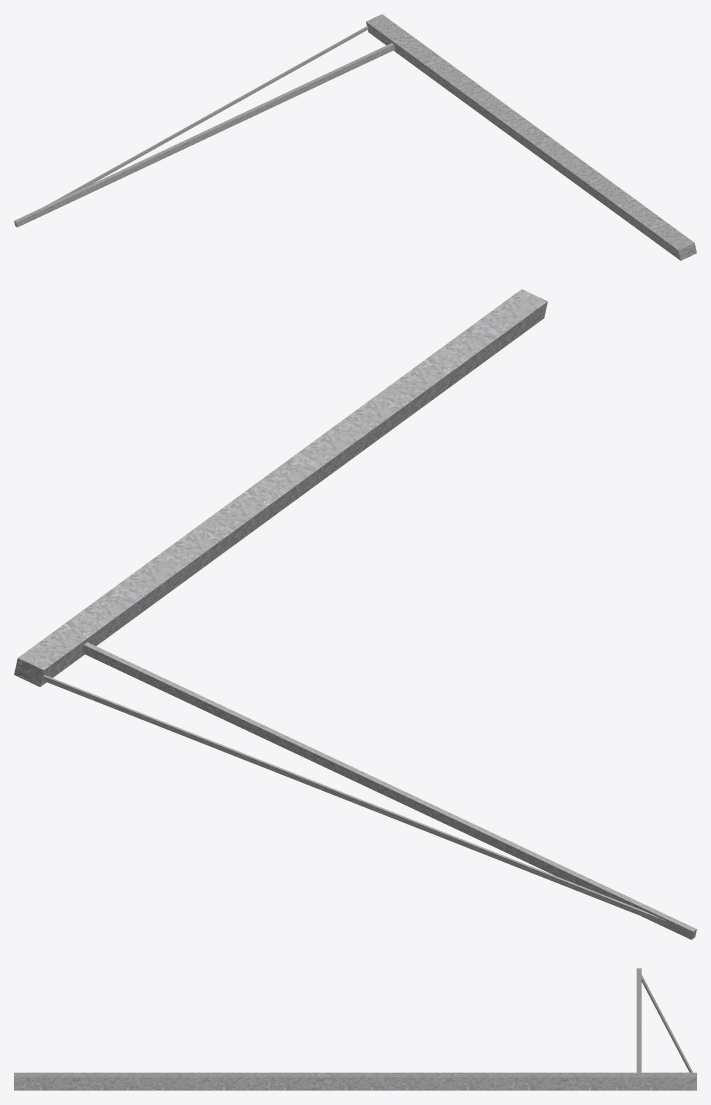
File: _0AD_tower_rolex_001_SUB1_Scene.016.obj
3 renders of one model, top to bottom at view 1: azimuth 30°, elevation 25°; view 2: azimuth 150°, elevation 25°; view 3: azimuth 270°, elevation 25°, orthographic. The views are drawn at different scales.
Visible parts, largest first — view 1: _0AD_tower_rolex_001_SUB1_Scene.016; view 2: _0AD_tower_rolex_001_SUB1_Scene.016; view 3: _0AD_tower_rolex_001_SUB1_Scene.016.
Part boxes in pixels (x1,y1,x2,y2): _0AD_tower_rolex_001_SUB1_Scene.016: [14, 14, 696, 260]; _0AD_tower_rolex_001_SUB1_Scene.016: [14, 289, 696, 939]; _0AD_tower_rolex_001_SUB1_Scene.016: [14, 968, 696, 1090].
Bounding box in the file's own units: 5.02 × 1.18 × 6.87.
